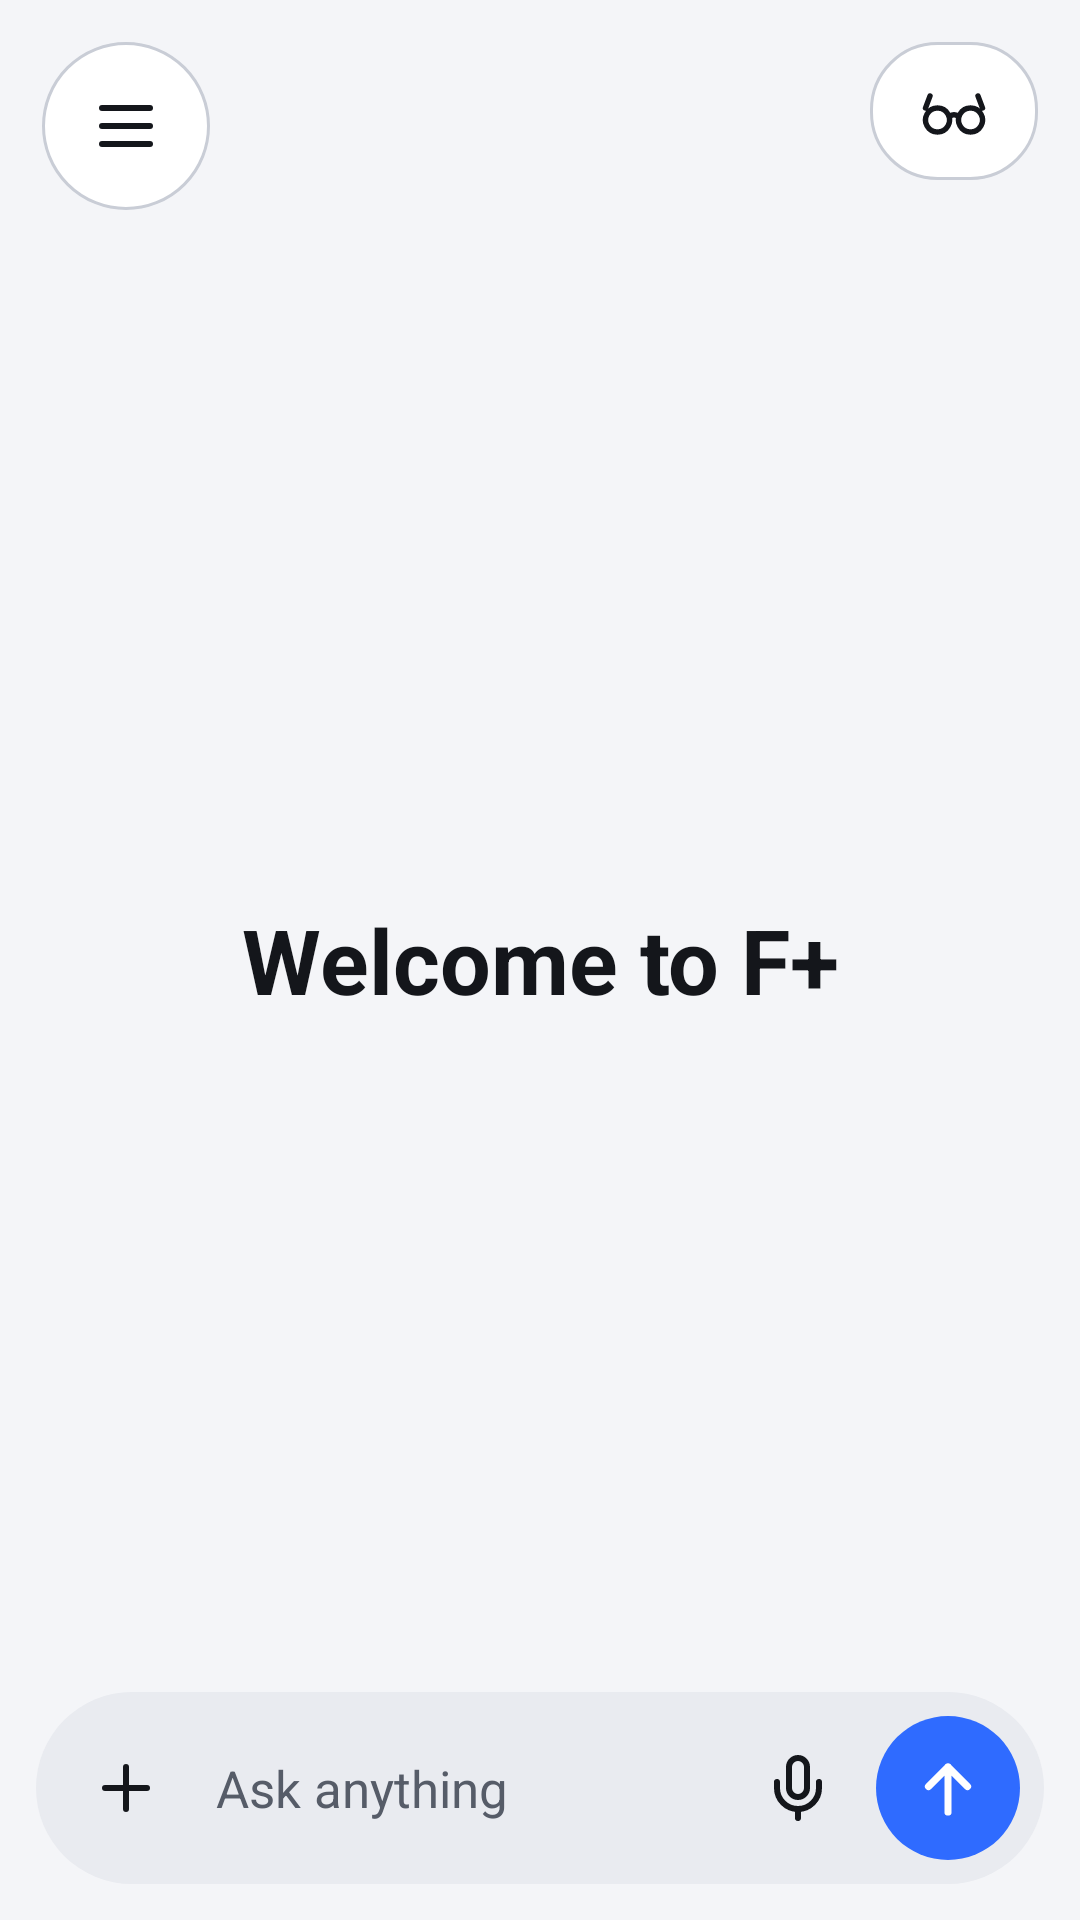

Icons on this 1080px×1920px Android screen, each with the point to tap as (x=x, y=y):
Attach a photo or file: (x=126, y=1788)
Menu: (x=126, y=126)
Send: (x=948, y=1788)
Speak: (x=798, y=1788)
